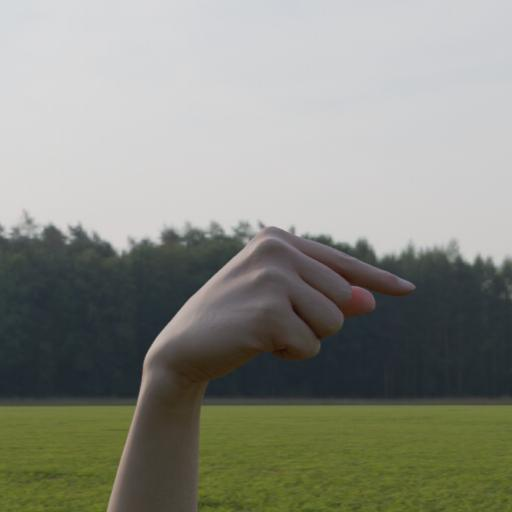G: (110, 202, 426, 428)
